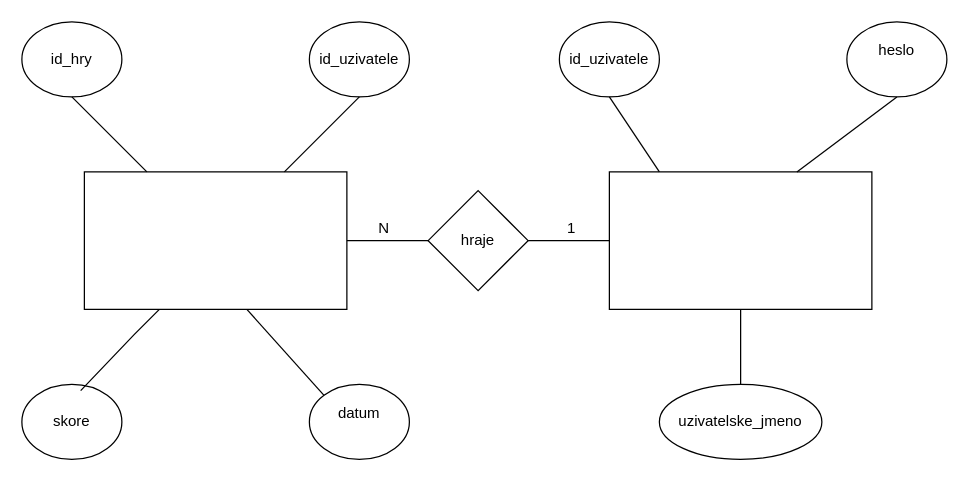
The diagram is 969 pixels wide and 481 high, and some of its shapes have lost their labels. The centre of each missing label's shape, as x and y in pixels:
"Hra" goes at pixel 215 240.
"Uživatel" goes at pixel 740 240.
